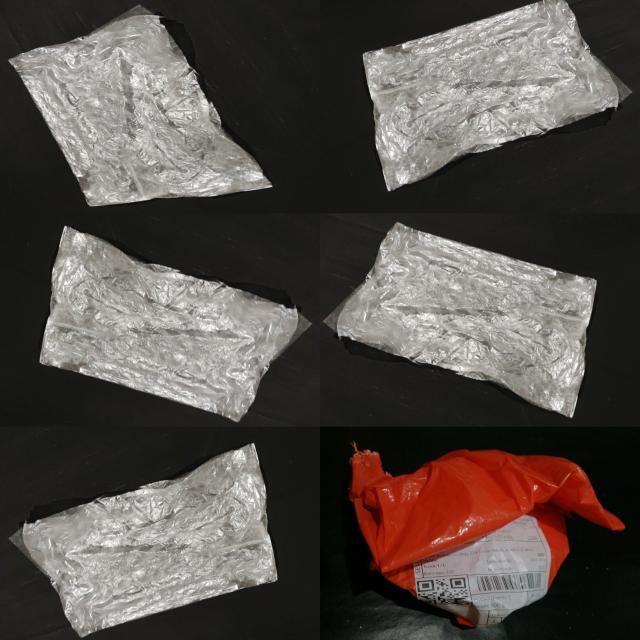Single-layer Plastic: (10, 6, 271, 206), (10, 444, 276, 636), (337, 222, 597, 416), (40, 226, 298, 421), (363, 0, 625, 190), (350, 450, 624, 626)
